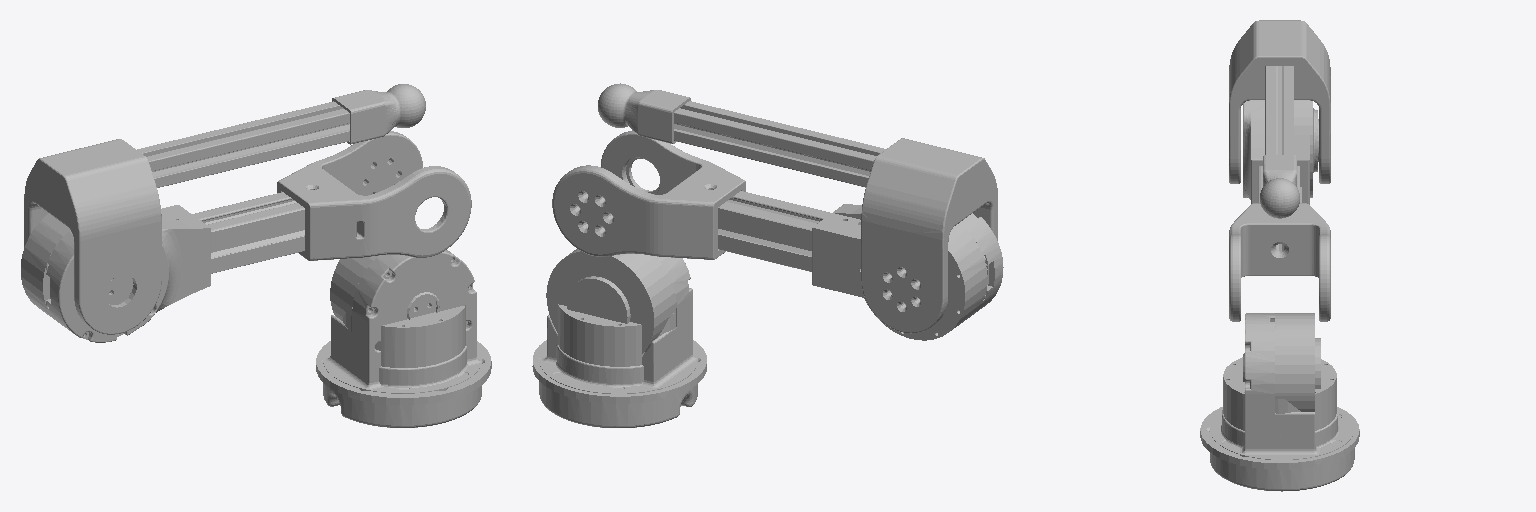
The robot description file, URDF, robot "RAVEN":
<?xml version="1.0" encoding="utf-8"?>
<!-- This URDF was automatically created by SolidWorks to URDF Exporter! Originally created by Stephen Brawner (brawner@gmail.com) 
     Commit Version: 1.6.0-4-g7f85cfe  Build Version: 1.6.7995.38578
     For more information, please see http://wiki.ros.org/sw_urdf_exporter -->
<robot
  name="RAVEN">
  <link
    name="base_link">
    <inertial>
      <origin
        xyz="0.000053 0.0 0.025049"
        rpy="0 0 0" />
      <mass
        value="0.468898" />
      <inertia
        ixx="0.0002705"
        ixy="-5.93E-09"
        ixz="3.78634E-07"
        iyy="0.0002661"
        iyz="-8.79E-10"
        izz="0.000369" />
    </inertial>
    <visual>
      <origin
        xyz="0 0 0"
        rpy="0 0 0" />
      <geometry>
        <mesh
          filename="../meshes/base_link.STL" />
      </geometry>
      <material
        name="">
        <color
          rgba="0.752941176470588 0.752941176470588 0.752941176470588 1" />
      </material>
    </visual>
    <collision>
      <origin
        xyz="0 0 0"
        rpy="0 0 0" />
      <geometry>
        <mesh
          filename="../meshes/base_link.STL" />
      </geometry>
    </collision>
  </link>
  <link
    name="shoulder_link">
    <inertial>
      <origin
        xyz="0.000083 0.001708 0.057466"
        rpy="0 0 0" />
      <mass
        value="0.598911" />
      <inertia
        ixx="0.0006411"
        ixy="8.5834E-08"
        ixz="2.5767E-06"
        iyy="0.0007509"
        iyz="-1.2909865E-05"
        izz="0.0004326" />
    </inertial>
    <visual>
      <origin
        xyz="0 0 0"
        rpy="0 0 0" />
      <geometry>
        <mesh
          filename="../meshes/shoulder_link.STL" />
      </geometry>
      <material
        name="">
        <color
          rgba="0.752941176470588 0.752941176470588 0.752941176470588 1" />
      </material>
    </visual>
    <collision>
      <origin
        xyz="0 0 0"
        rpy="0 0 0" />
      <geometry>
        <mesh
          filename="../meshes/shoulder_link.STL" />
      </geometry>
    </collision>
  </link>
  <joint
    name="shoulder_Joint"
    type="revolute">
    <origin
      xyz="0 0 0.0504"
      rpy="0 0 0" />
    <parent
      link="base_link" />
    <child
      link="shoulder_link" />
    <axis
      xyz="0 0 1" />
    <limit
      lower="-3.14"
      upper="3.14"
      effort="0"
      velocity="0" />
  </joint>
  <link
    name="upperArm_link">
    <inertial>
      <origin
        xyz="-0.180709 -0.02605 -0.000062"
        rpy="0 0 0" />
      <mass
        value="0.718905" />
      <inertia
        ixx="0.0003746"
        ixy="1.9472931E-05"
        ixz="-1.142413E-06"
        iyy="0.003941"
        iyz="1.858E-09"
        izz="0.003894" />
    </inertial>
    <visual>
      <origin
        xyz="0 0 0"
        rpy="0 0 0" />
      <geometry>
        <mesh
          filename="../meshes/upperArm_link.STL" />
      </geometry>
      <material
        name="">
        <color
          rgba="0.752941176470588 0.752941176470588 0.752941176470588 1" />
      </material>
    </visual>
    <collision>
      <origin
        xyz="0 0 0"
        rpy="0 0 0" />
      <geometry>
        <mesh
          filename="../meshes/upperArm_link.STL" />
      </geometry>
    </collision>
  </link>
  <joint
    name="upperArm_Joint"
    type="revolute">
    <origin
      xyz="0 0.027 0.07"
      rpy="0 0 0" />
    <parent
      link="shoulder_link" />
    <child
      link="upperArm_link" />
    <axis
      xyz="0 1 0" />
    <limit
      lower="0"
      upper="3.14"
      effort="0"
      velocity="0" />
  </joint>
  <link
    name="foreArm_link">
    <inertial>
      <origin
        xyz="0.065872 -0.02672 0.051838"
        rpy="0 0 0" />
      <mass
        value="0.14102" />
      <inertia
        ixx="0.0001052"
        ixy="2.527305E-06"
        ixz="-8.5217478E-05"
        iyy="0.00099"
        iyz="2.026683E-06"
        izz="0.0009641" />
    </inertial>
    <visual>
      <origin
        xyz="0 0 0"
        rpy="0 0 0" />
      <geometry>
        <mesh
          filename="../meshes/foreArm_link.STL" />
      </geometry>
      <material
        name="">
        <color
          rgba="0.752941176470588 0.752941176470588 0.752941176470588 1" />
      </material>
    </visual>
    <collision>
      <origin
        xyz="0 0 0"
        rpy="0 0 0" />
      <geometry>
        <mesh
          filename="../meshes/foreArm_link.STL" />
      </geometry>
    </collision>
  </link>
  <joint
    name="foreArm_Joint"
    type="revolute">
    <origin
      xyz="-0.225 -2.5E-05 -7.5E-05"
      rpy="0 0 0" />
    <parent
      link="upperArm_link" />
    <child
      link="foreArm_link" />
    <axis
      xyz="0 -1 0" />
    <limit
      lower="0"
      upper="3.14"
      effort="0"
      velocity="0" />
  </joint>
</robot>

--- Render facts (derived) ---
The picture shows the robot from 3 angles, left to right: view 1: azimuth 30°, elevation 25°; view 2: azimuth 150°, elevation 25°; view 3: azimuth 270°, elevation 25°; orthographic projection.
Model RAVEN with 4 links and 3 joints (3 revolute), rooted at base_link, posed every joint at zero.
Visible links, largest first — view 1: upperArm_link, foreArm_link, shoulder_link, base_link; view 2: upperArm_link, foreArm_link, shoulder_link, base_link; view 3: shoulder_link, foreArm_link, upperArm_link, base_link.
Link boxes in pixels (x1,y1,x2,y2): upperArm_link: (21, 131, 471, 342); foreArm_link: (24, 84, 425, 334); shoulder_link: (323, 250, 481, 427); base_link: (316, 304, 491, 404); upperArm_link: (552, 130, 1003, 340); foreArm_link: (598, 83, 997, 333); shoulder_link: (539, 249, 697, 427); base_link: (532, 304, 706, 403); shoulder_link: (1210, 313, 1354, 491); foreArm_link: (1229, 20, 1330, 218); upperArm_link: (1229, 100, 1330, 321); base_link: (1200, 357, 1359, 469).
Size in the robot's own frame: 0.3192 by 0.11 by 0.2179 metres.
4 mesh visuals loaded from 4 distinct referenced files (4 binary STL).
